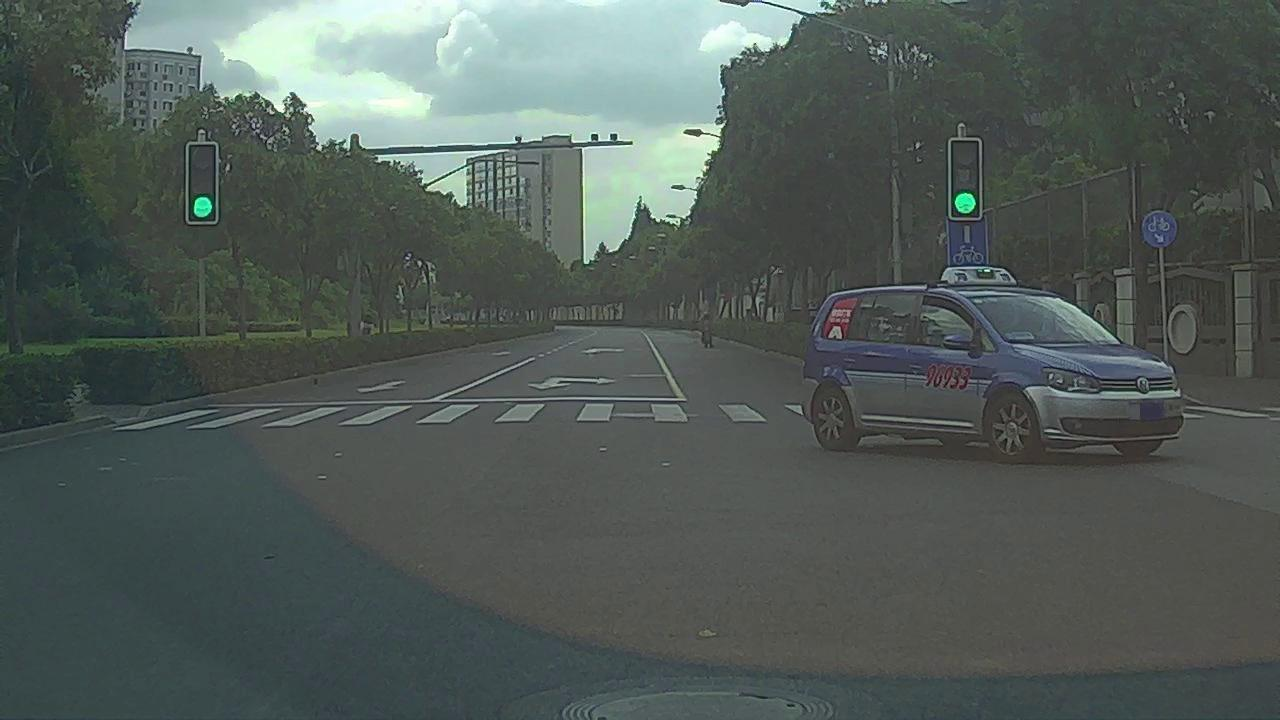traffic_light: (949, 139, 983, 222), (189, 144, 216, 222)
